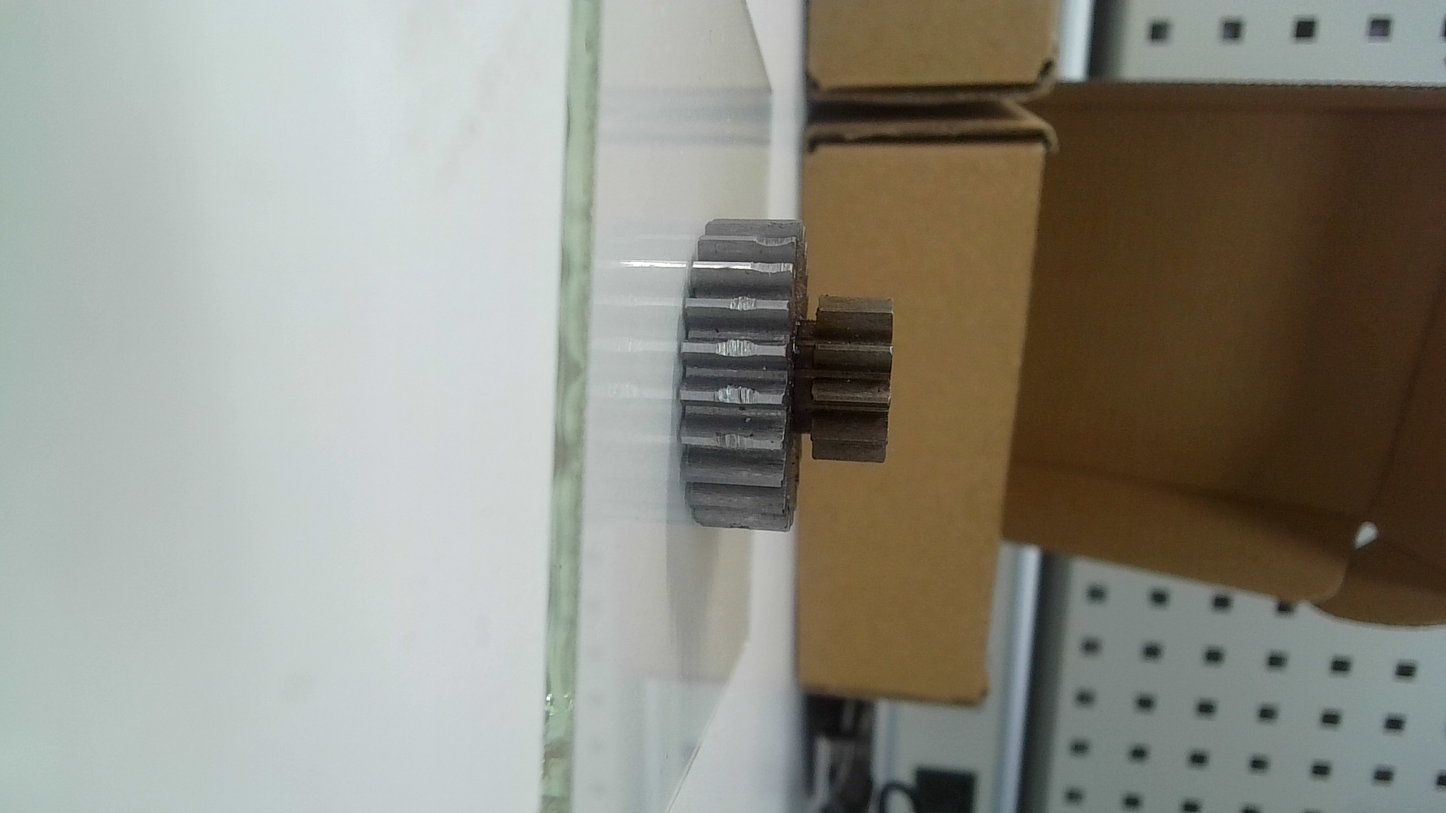gear: (657, 207, 903, 543)
